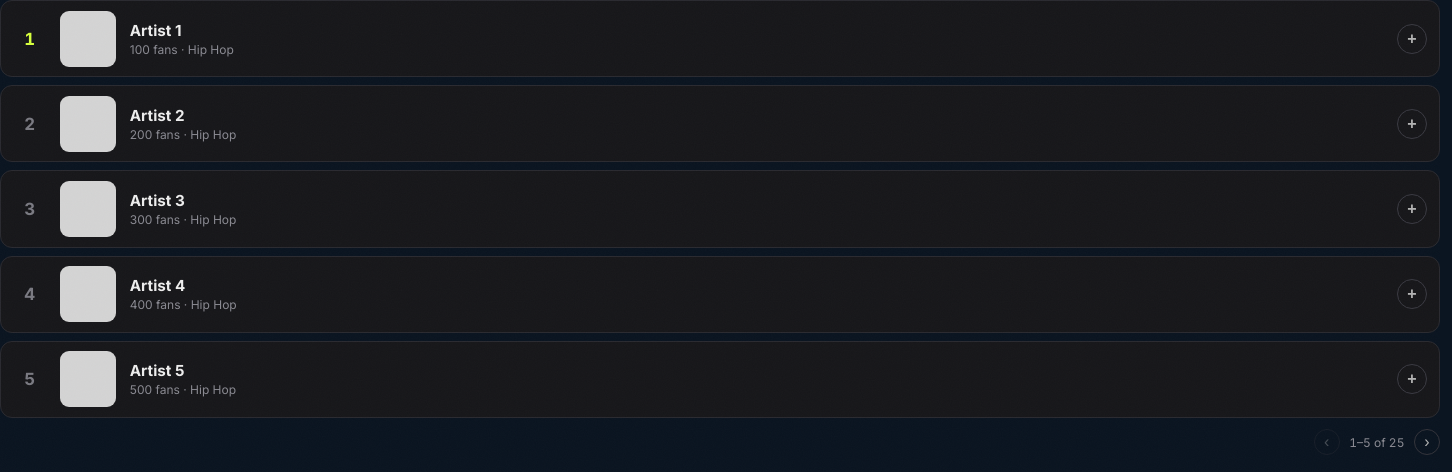
Test case: RankCardList › paging › keeps ranks true to position on later pages
The width and height of the screenshot is (1452, 472).
What coordinates should you click on to do the following:
click the button named "next ranks"
I would click on:
 (1427, 442)
Its box is [1414,429,1440,455].
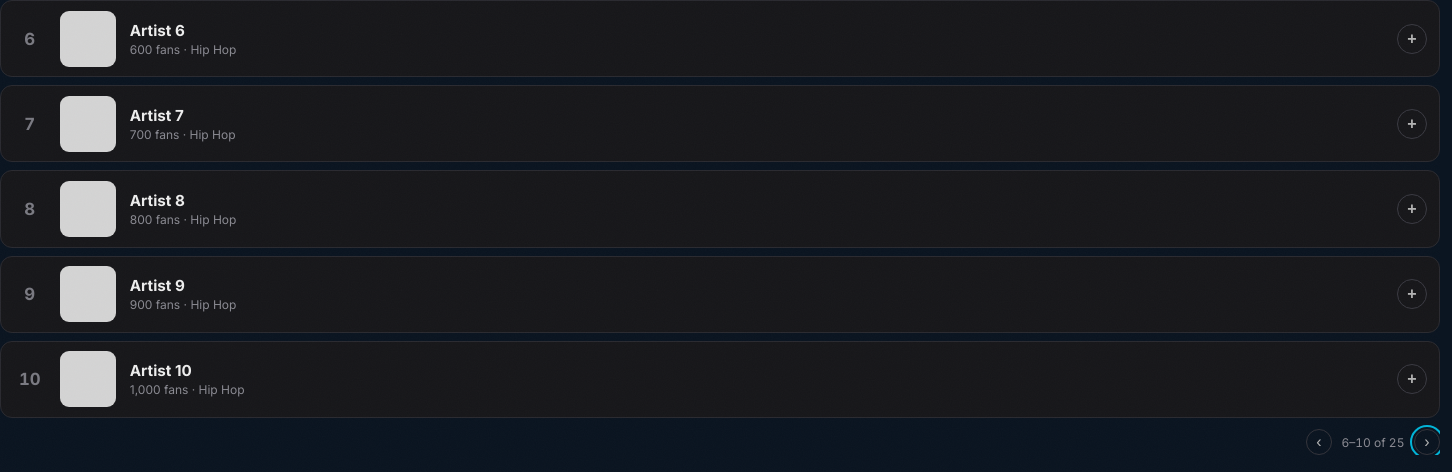
Expected: the text "6" is shown, [24,29,35,49]
Expected: the text "Artist 10" is shown, [130,361,192,380]
